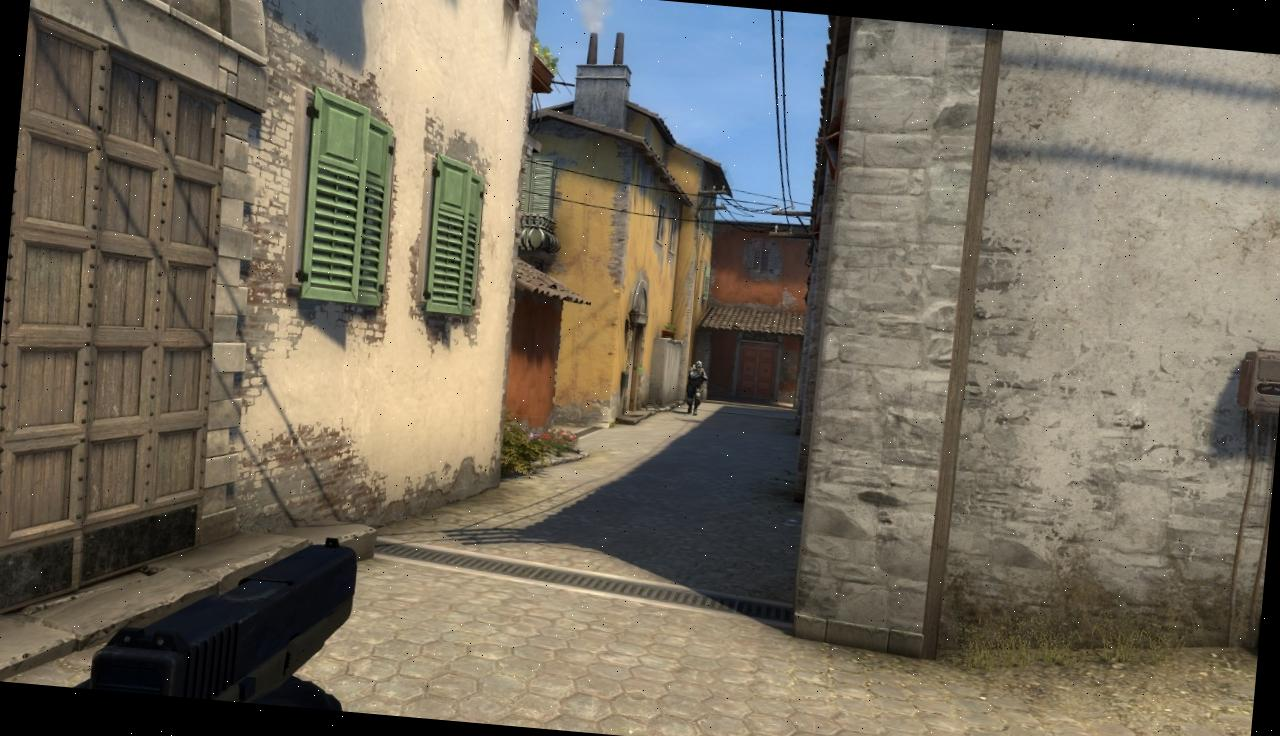ct: (686, 359, 704, 416)
cthead: (694, 361, 702, 369)
pistol: (84, 516, 361, 712)
